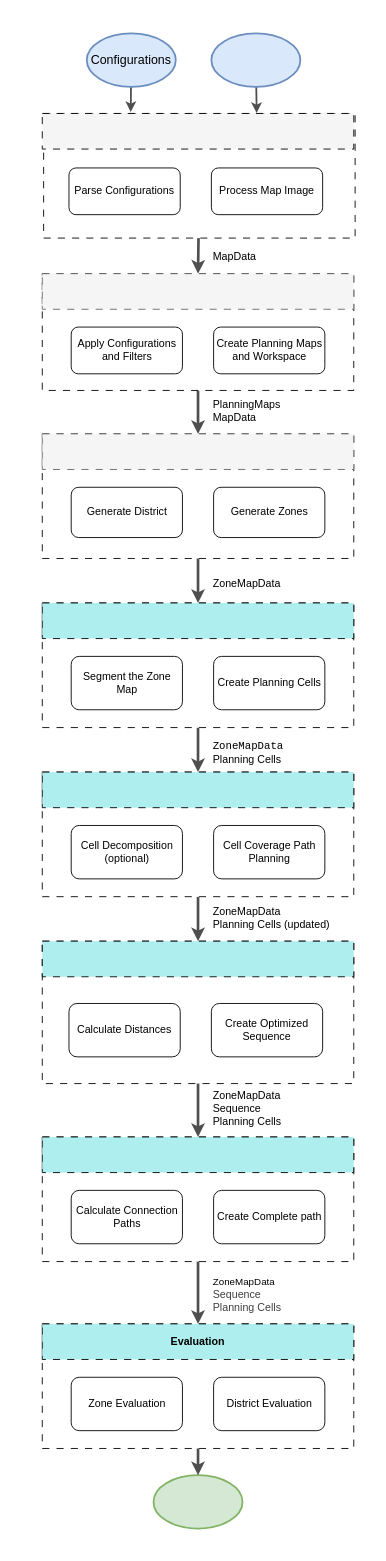
Image size: 386x1561. Some labels were removed from this diagram. The shapes that lost their labels are listed below. From the top down, each one's box as (x1, y1, x2, y2) in pixels, then its label:
(210, 32, 301, 87): Map Image, Metadata
(41, 113, 354, 149): Input Processing
(41, 273, 354, 309): Space Analysis
(41, 433, 354, 469): Create Operational District
(41, 602, 354, 639): Segmentation
(41, 771, 354, 808): Coverage Path Planning
(41, 940, 354, 977): Sequence Optimization
(41, 1136, 354, 1173): Path Planning
(152, 1474, 243, 1529): Results
